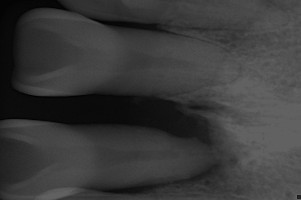Dental Caries: (122, 95, 239, 195)
